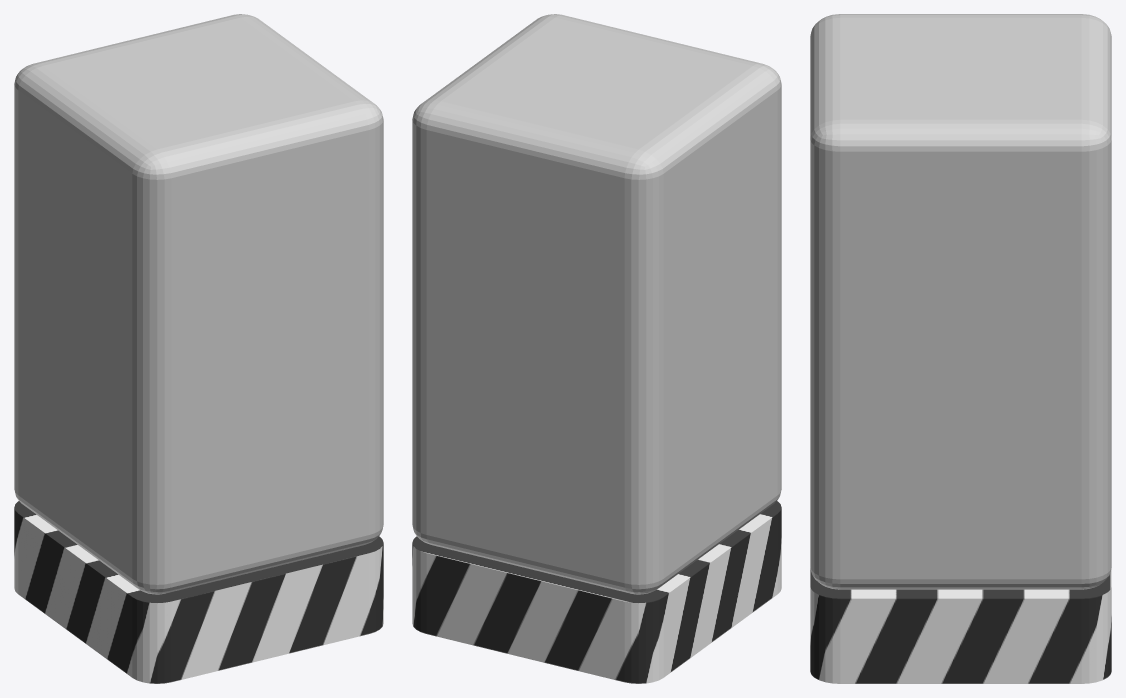
Rendered from UnitHigh-White.fbx.
The picture shows the model from 3 angles, left to right: view 1: azimuth 30°, elevation 25°; view 2: azimuth 150°, elevation 25°; view 3: azimuth 270°, elevation 25°; orthographic projection. The views are drawn at different scales.
Parts seen in each view (by area): view 1: Cube.011, Cube.010; view 2: Cube.011, Cube.010; view 3: Cube.011, Cube.010.
Part boxes in pixels (x1,y1,x2,y2): Cube.011: (14, 14, 383, 594); Cube.010: (14, 501, 383, 683); Cube.011: (412, 14, 781, 594); Cube.010: (412, 501, 781, 683); Cube.011: (810, 14, 1111, 589); Cube.010: (810, 568, 1111, 683).
Size of the model in its own units: 200 by 200 by 404.
2 materials, 1 textured.
